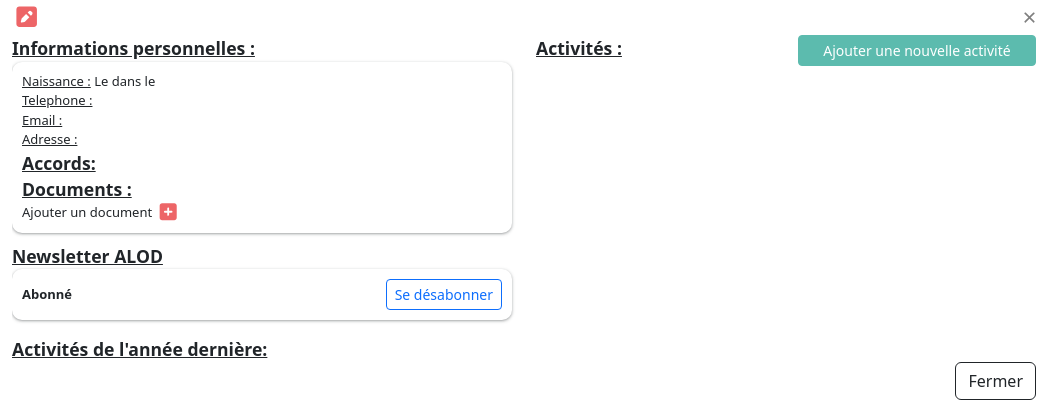
Scenario: Adherent modal newsletter › allows represented members to subscribe and unsubscribe with their own email
Expected: the element showing "Newsletter ALOD Abonné Se désabonner" is shown, [12,242,512,320]
Click the button "Se désabonner": coordinates (444, 294) [386,279,502,310]
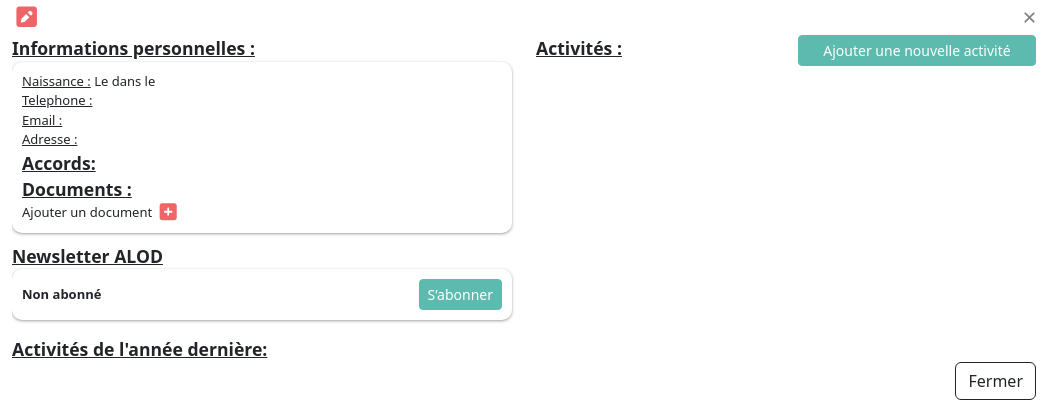
Result: the element showing "Newsletter ALOD Non abonné S’abonner" is shown at [12,242,512,320]
Click the button "S’abonner": coordinates (460, 294) [418,279,502,310]
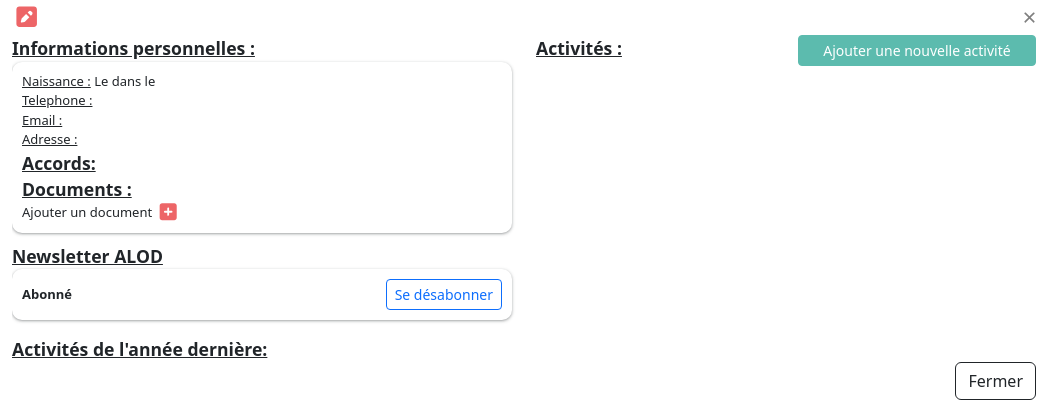
Result: the element showing "Newsletter ALOD Abonné Se désabonner" is shown at [12,242,512,320]
